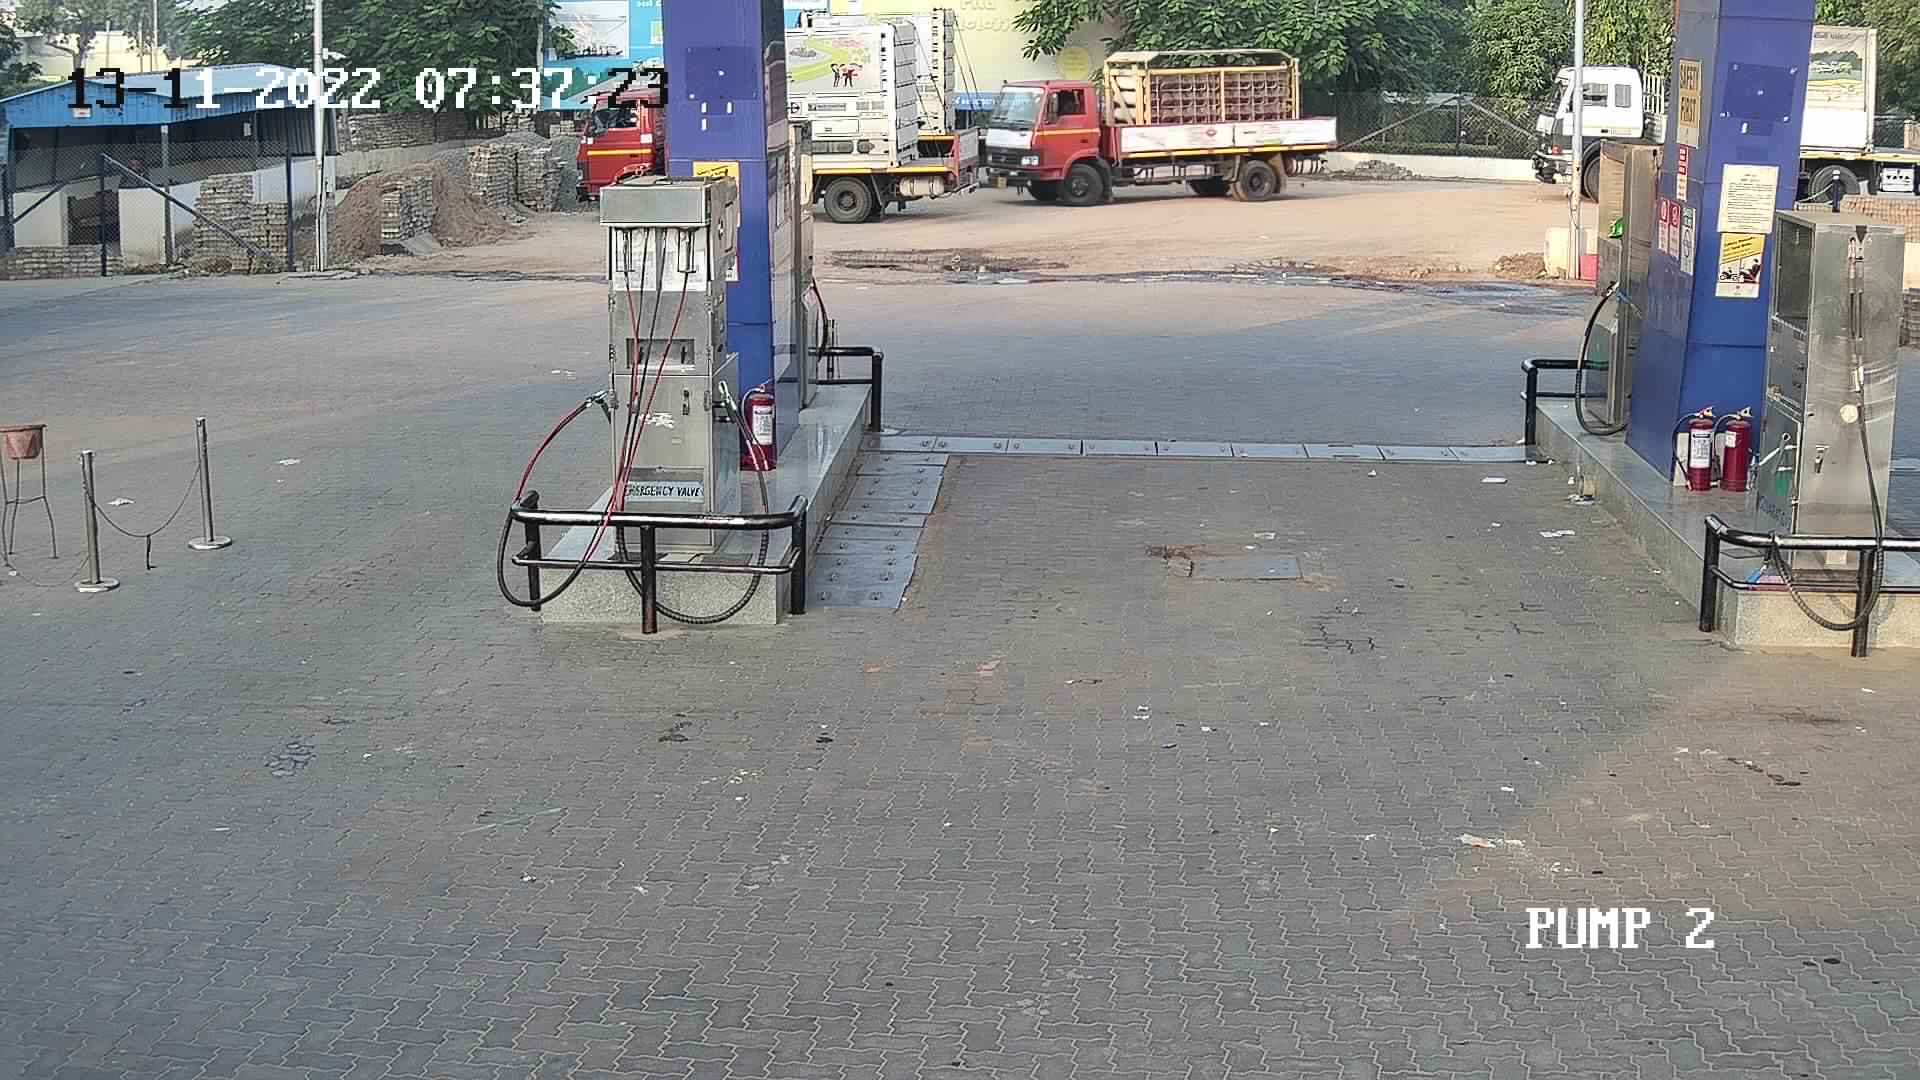HMV: (969, 40, 1352, 208), (765, 8, 1002, 225), (791, 3, 996, 166), (1511, 36, 1673, 204)
